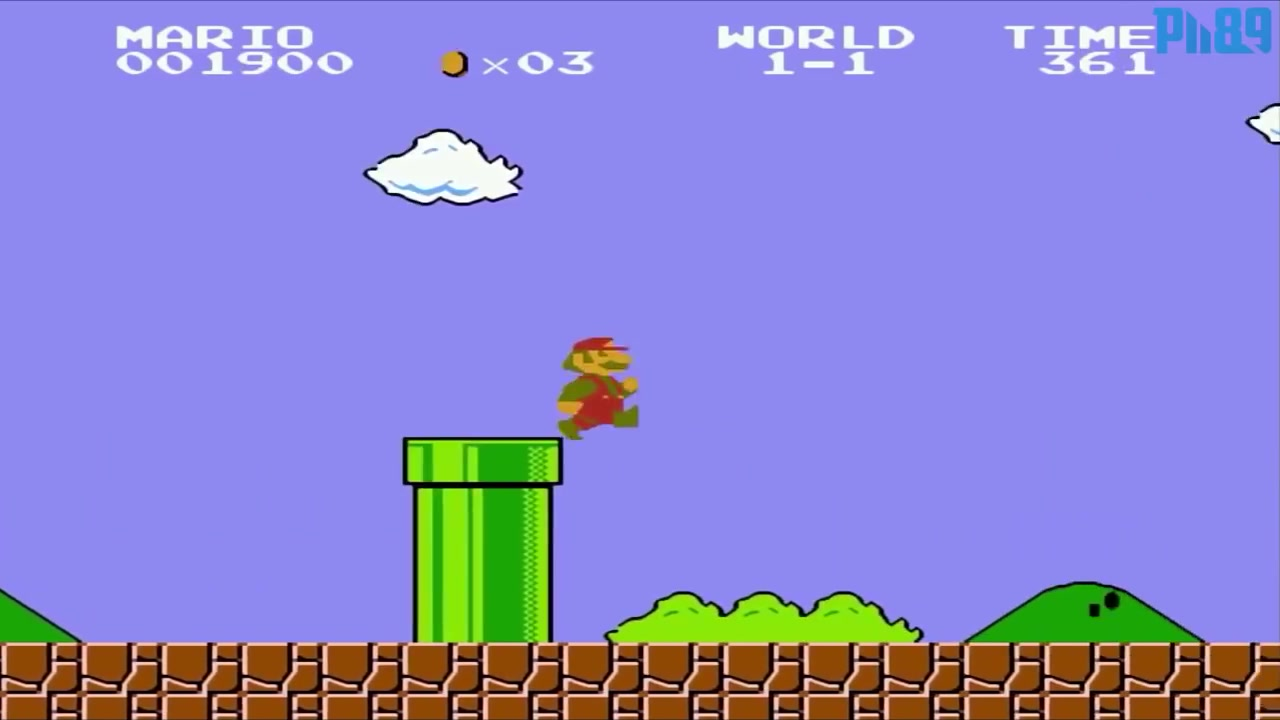mario: (549, 328, 646, 447)
